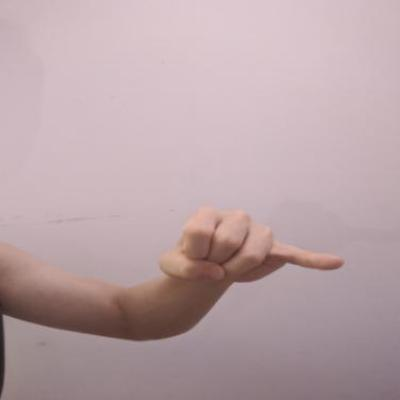hand: (145, 198, 349, 288)
